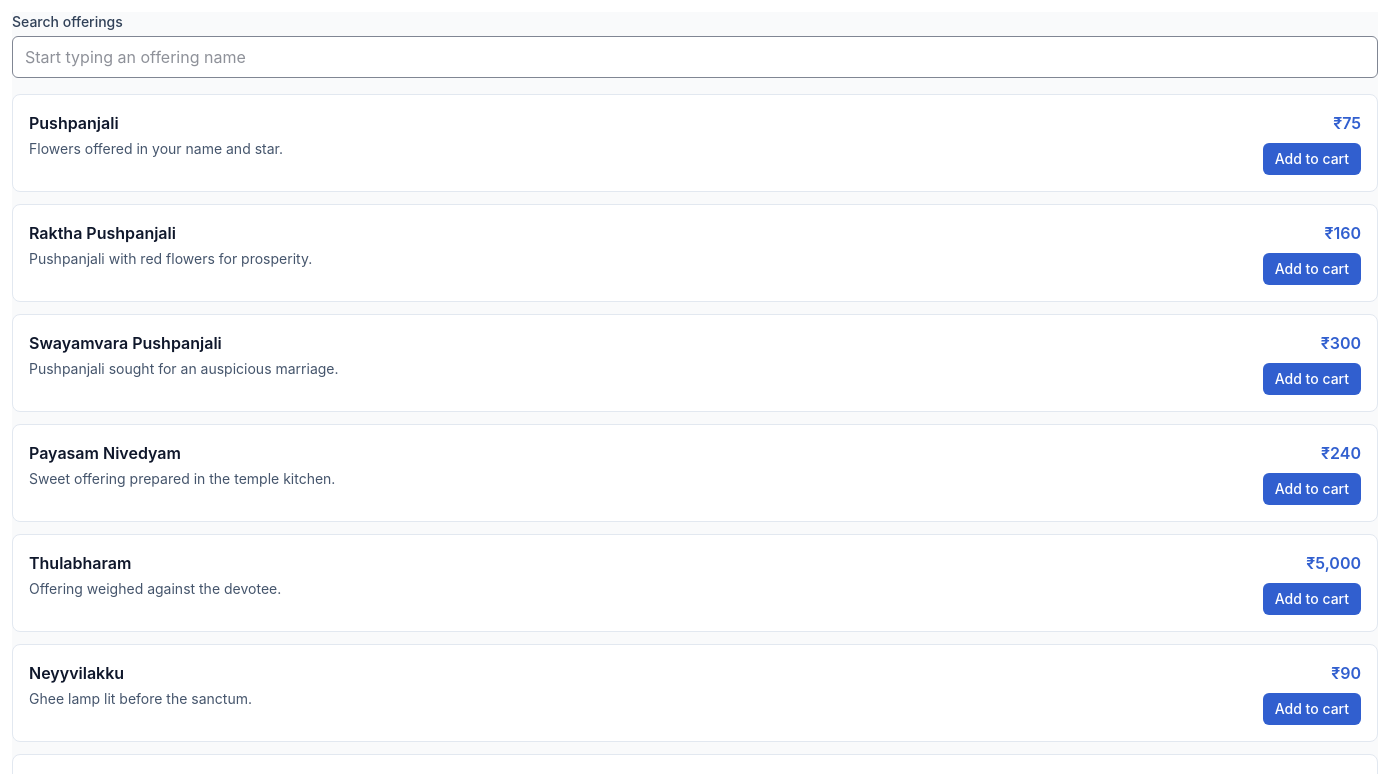
TempleOfferings › restores the full list when the search is cleared
Expected: the heading "Pushpanjali" is shown, [29, 113, 119, 133]
Type "push" into the search field labelled "Search offerings" at x=695, y=57, box [12, 36, 1378, 78]
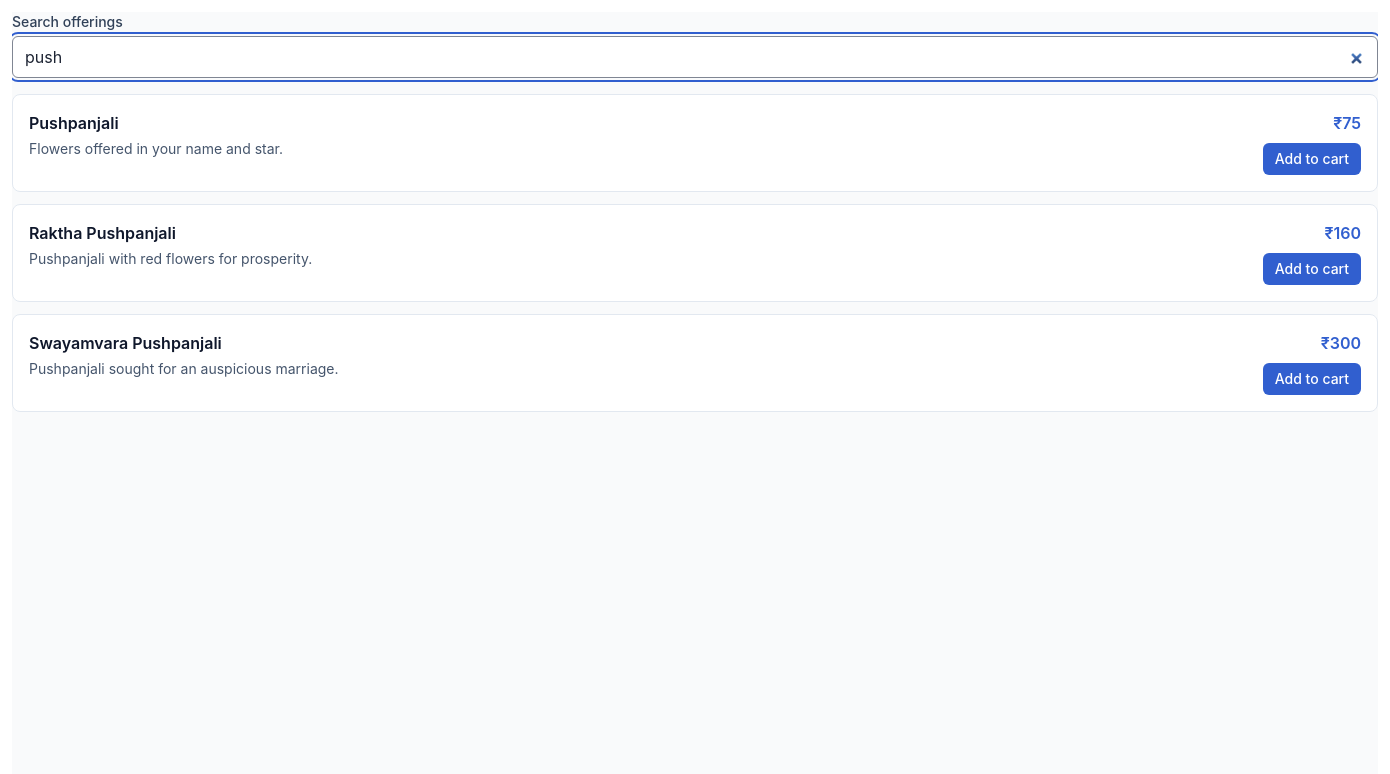
Clear the search field labelled "Search offerings" at x=695, y=57, box [12, 36, 1378, 78]
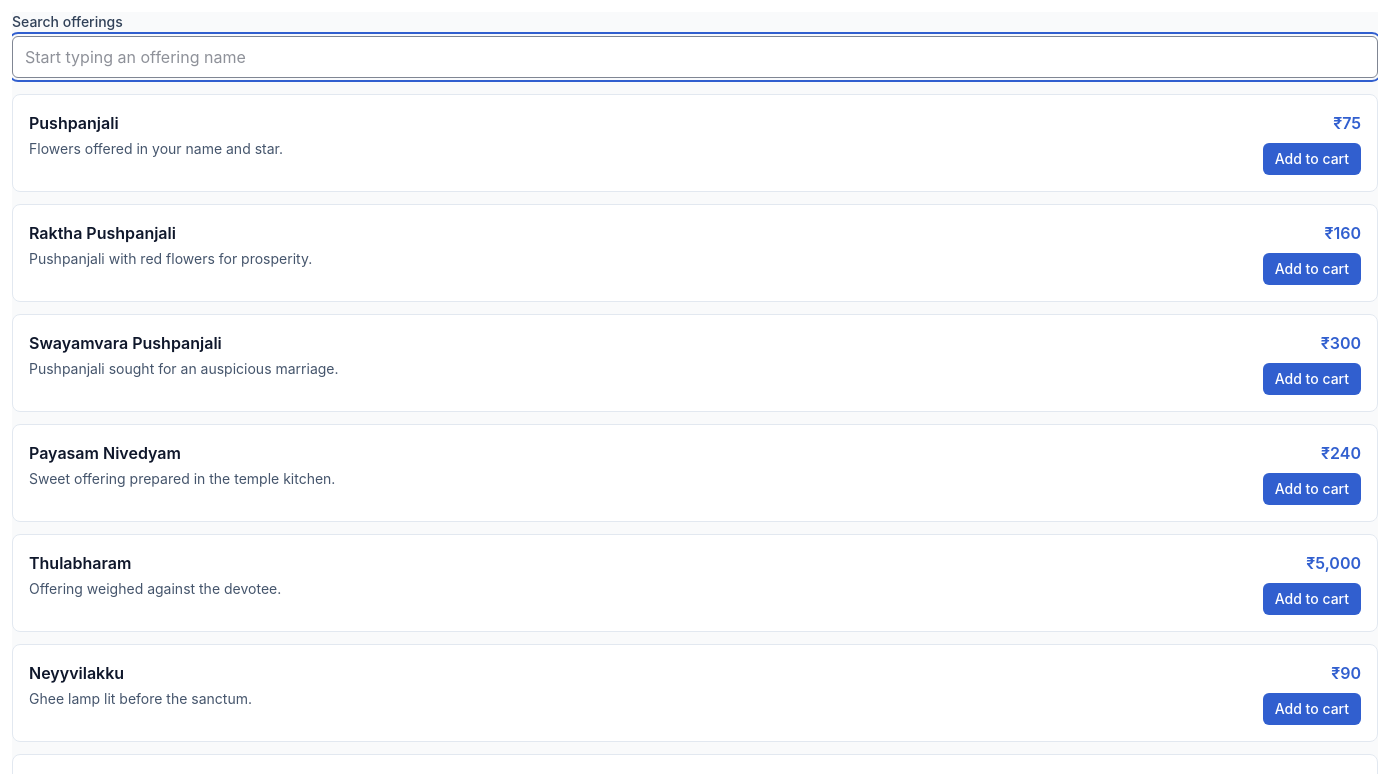
Expected: the heading "Thulabharam" is shown, [29, 553, 131, 573]
